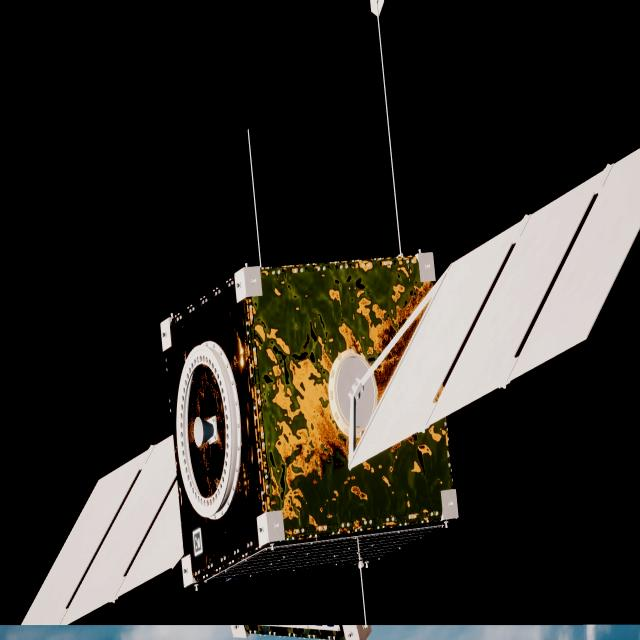medium_debris: (24, 148, 640, 627)
